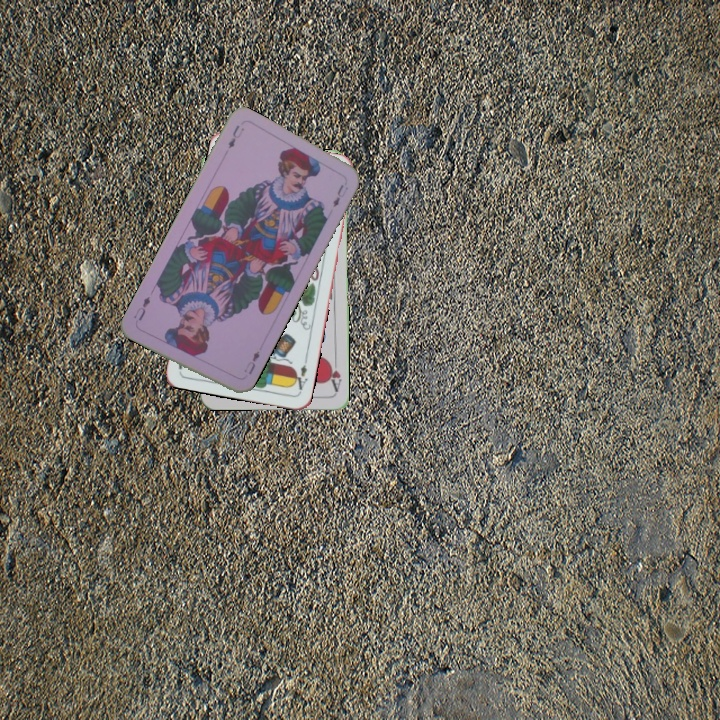EA: (289, 354, 310, 395)
EU: (240, 347, 263, 377), (224, 121, 247, 151)
HA: (325, 353, 344, 393)
